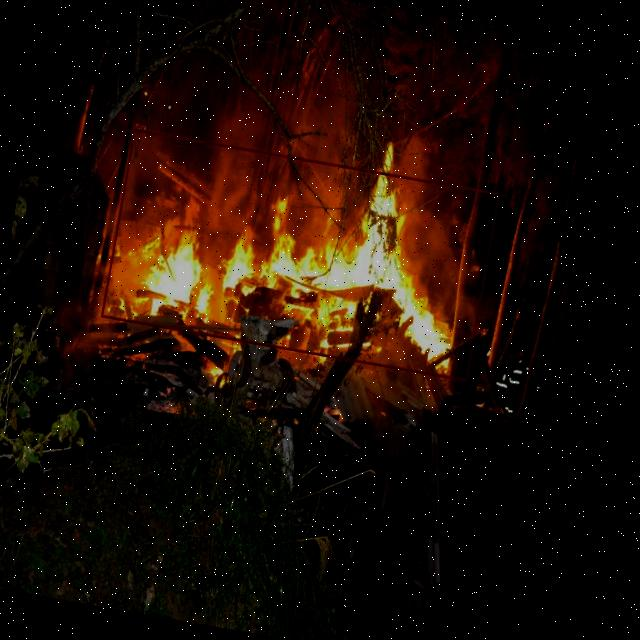fire: (100, 128, 500, 381)
